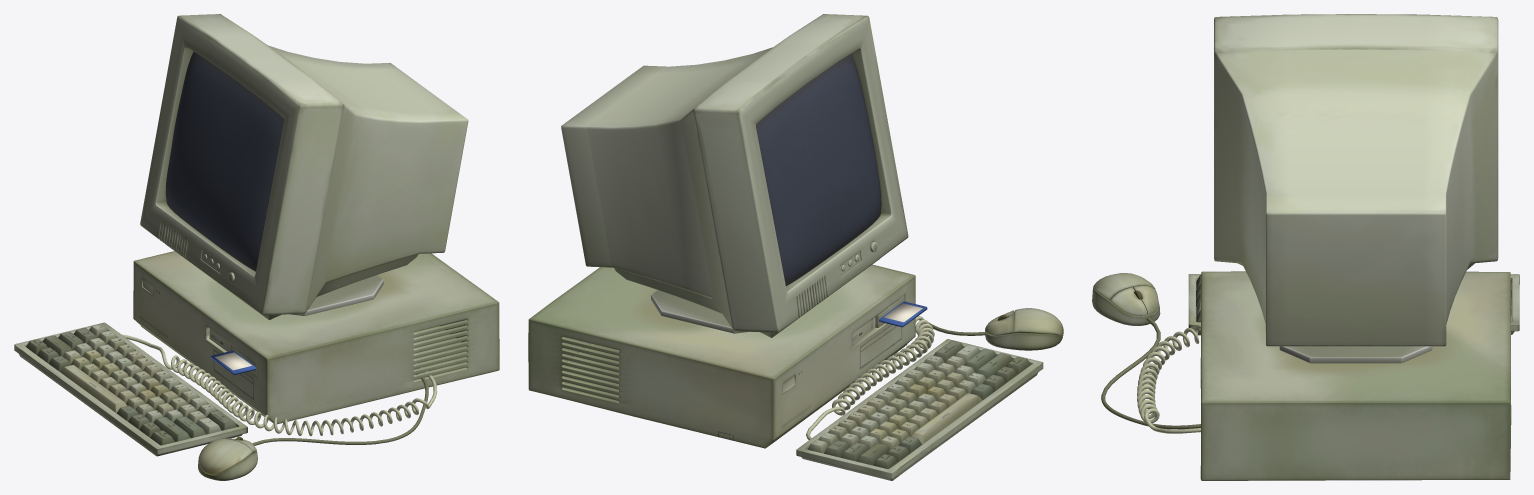
File: mac_racine_2.glb
3 views of the same model, side by side, from view 1: azimuth 30°, elevation 25°; view 2: azimuth 150°, elevation 25°; view 3: azimuth 270°, elevation 25° (orthographic). The views are drawn at different scales.
Visible parts, largest first — view 1: Mac_Moniteur_Coque, Mac_Tour_Boitier, Mac_Moniteur_Verre, Mac_Clavier_Base, Mac_Cable_Spirale_Fil, Mac_Moniteur_Plaque, Mac_Souris_Coque_A, Mac_Touche_R5_C05, Mac_Cable_Souris_Fil, Mac_Souris_Corps; view 2: Mac_Moniteur_Coque, Mac_Tour_Boitier, Mac_Moniteur_Verre, Mac_Clavier_Base, Mac_Cable_Spirale_Fil, Mac_Moniteur_Plaque, Mac_Touche_R5_C05, Mac_Souris_Corps, Mac_Souris_Coque_A; view 3: Mac_Moniteur_Coque, Mac_Tour_Boitier, Mac_Moniteur_Plaque, Mac_Cable_Spirale_Fil, Mac_Souris_Coque_B, Mac_Clavier_Base, Mac_Souris_Corps, Mac_Cable_Souris_Fil, Mac_Souris_Coque_A.
Part boxes in pixels (<box>): Mac_Moniteur_Coque: <box>140,14,468,319</box>; Mac_Tour_Boitier: <box>133,251,499,424</box>; Mac_Moniteur_Verre: <box>165,51,284,271</box>; Mac_Clavier_Base: <box>14,322,247,456</box>; Mac_Cable_Spirale_Fil: <box>122,334,437,436</box>; Mac_Moniteur_Plaque: <box>291,275,383,315</box>; Mac_Souris_Coque_A: <box>198,438,252,473</box>; Mac_Touche_R5_C05: <box>59,364,127,412</box>; Mac_Cable_Souris_Fil: <box>252,369,428,445</box>; Mac_Souris_Corps: <box>198,450,257,480</box>; Mac_Moniteur_Coque: <box>561,14,908,337</box>; Mac_Tour_Boitier: <box>528,264,915,448</box>; Mac_Moniteur_Verre: <box>756,54,881,285</box>; Mac_Clavier_Base: <box>796,339,1043,480</box>; Mac_Cable_Spirale_Fil: <box>806,316,934,439</box>; Mac_Moniteur_Plaque: <box>651,290,748,333</box>; Mac_Touche_R5_C05: <box>911,393,982,444</box>; Mac_Souris_Corps: <box>985,330,1063,350</box>; Mac_Souris_Coque_A: <box>1014,308,1063,335</box>; Mac_Moniteur_Coque: <box>1214,14,1498,346</box>; Mac_Tour_Boitier: <box>1200,271,1511,480</box>; Mac_Moniteur_Plaque: <box>1279,346,1432,363</box>; Mac_Cable_Spirale_Fil: <box>1137,325,1200,433</box>; Mac_Souris_Coque_B: <box>1110,285,1158,315</box>; Mac_Clavier_Base: <box>1188,274,1519,335</box>; Mac_Souris_Corps: <box>1092,287,1160,325</box>; Mac_Cable_Souris_Fil: <box>1101,317,1200,429</box>; Mac_Souris_Coque_A: <box>1093,273,1155,300</box>.
Bounding box in the file's own units: 6.89 × 5.93 × 6.35.
Materials: 10 (5 with a texture image).
